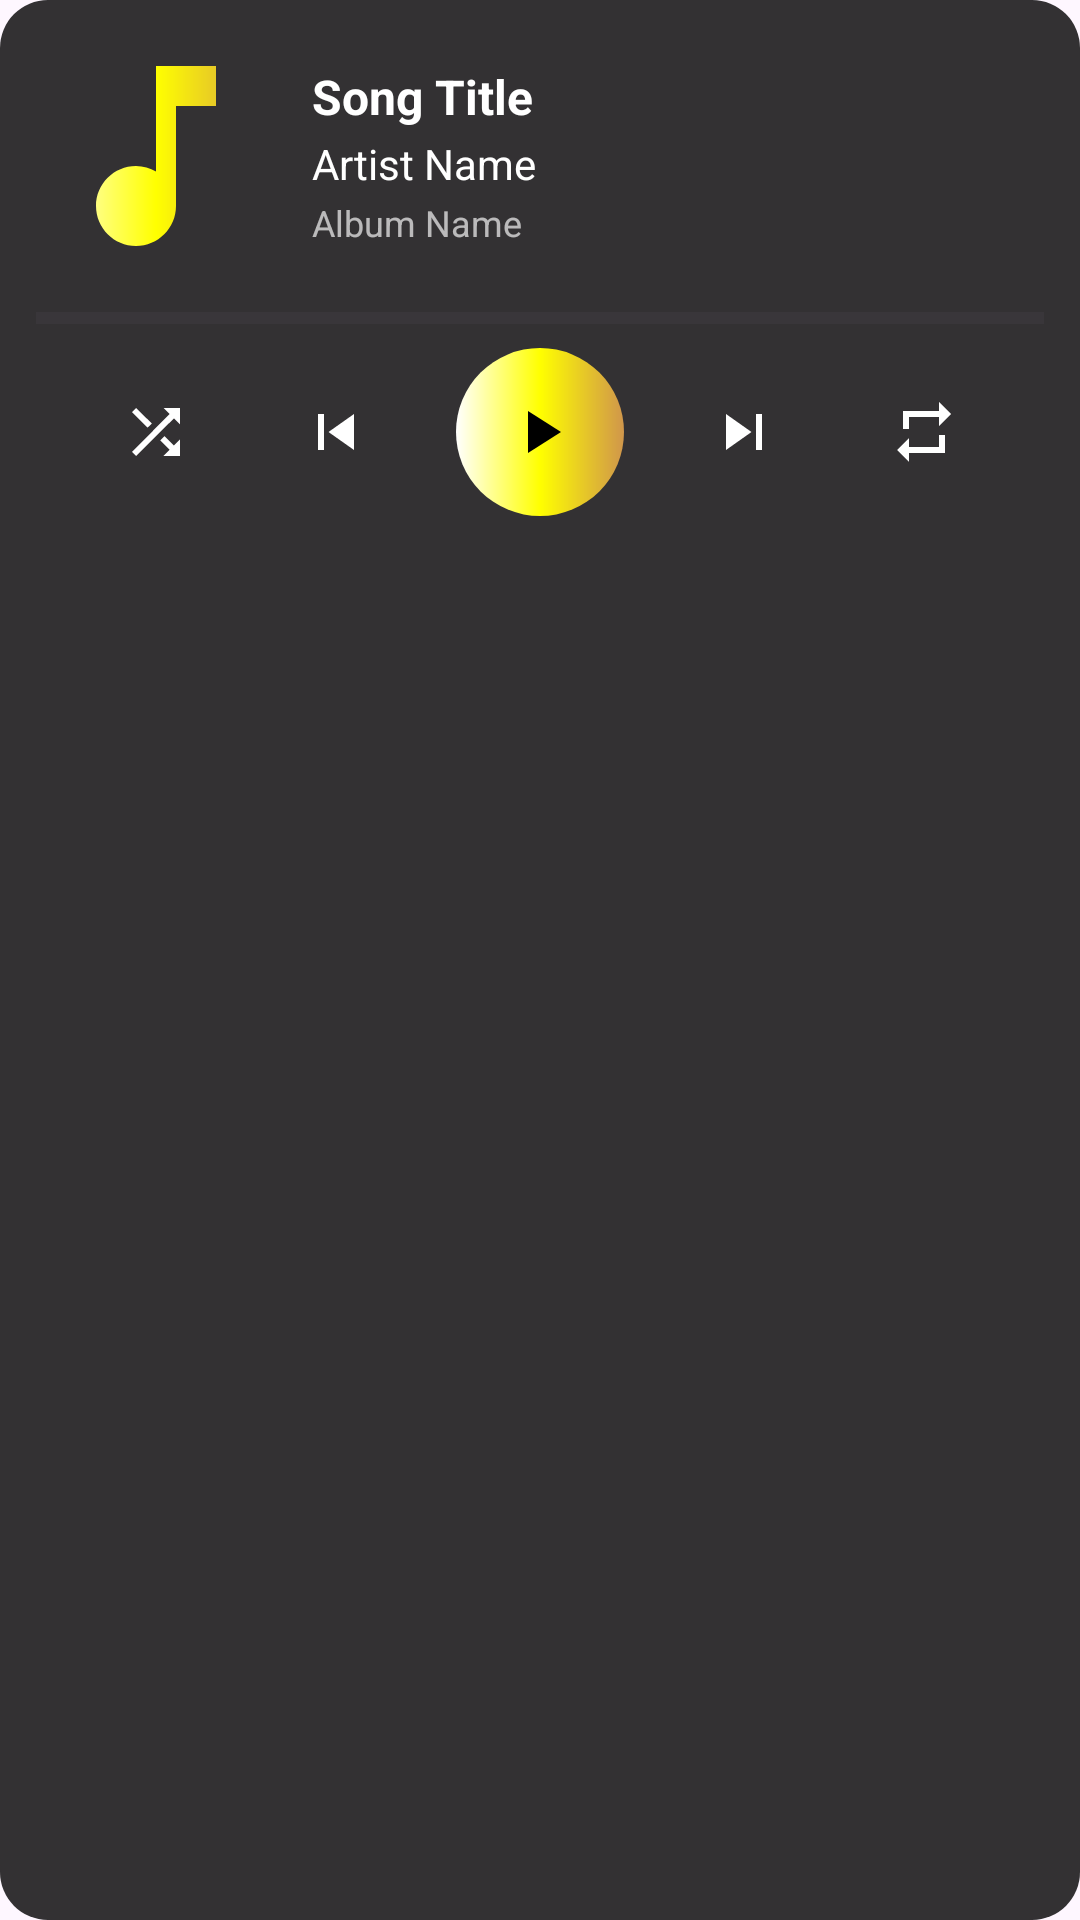

Point at icon controls on the screen. Image size 1080 x 1920, points as (x,y).
music note: (156,156)
play: (540,432)
repeat: (924,432)
shuffle: (156,432)
skip next: (744,432)
skip previous: (336,432)
